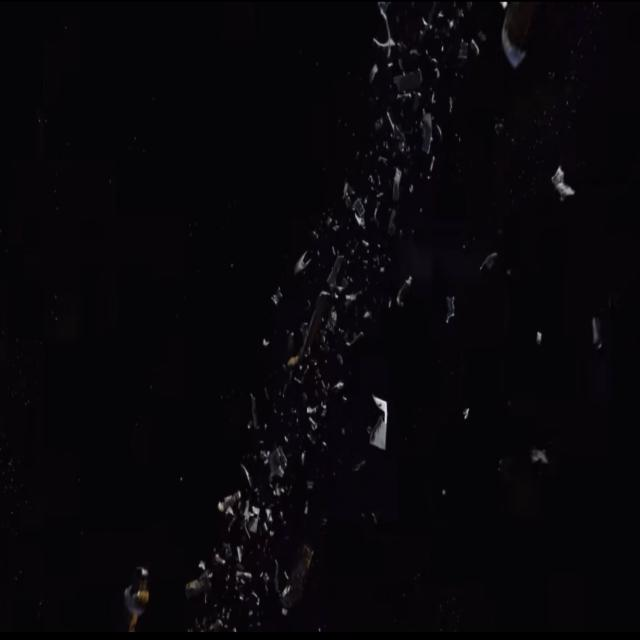large_debris: (287, 246, 353, 386), (274, 534, 322, 616), (498, 2, 542, 72), (121, 562, 157, 636), (371, 0, 406, 70), (366, 383, 392, 460), (177, 556, 216, 607), (340, 176, 370, 236), (546, 160, 578, 214), (416, 102, 439, 166), (218, 483, 244, 537), (440, 290, 460, 332)
